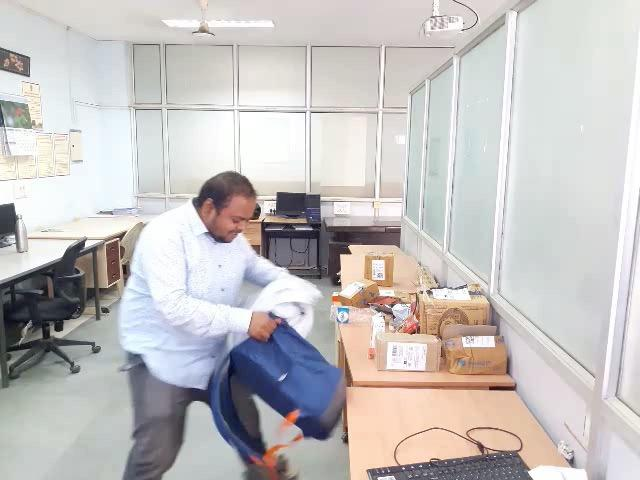shoplifting: (214, 269, 349, 443)
